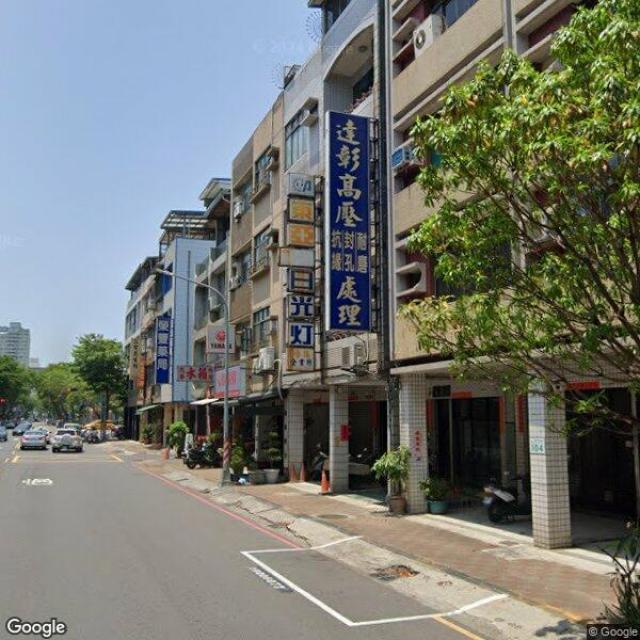Legalparking: (483, 475, 531, 522)
illegalparking: (21, 429, 83, 450)
